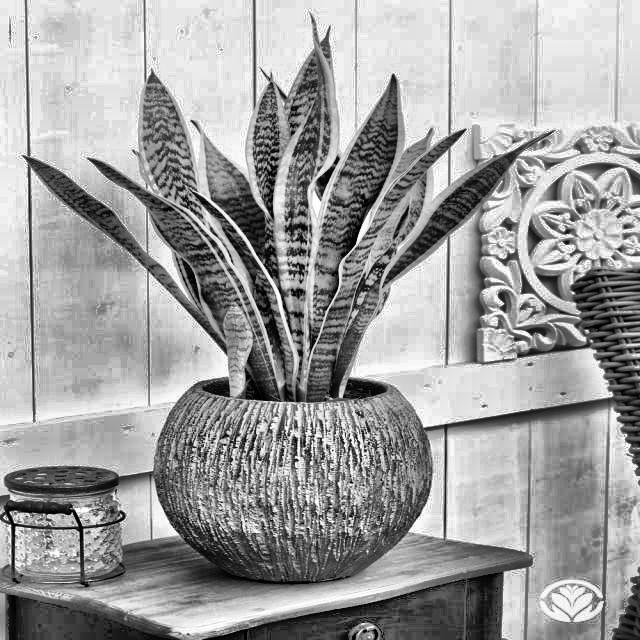plants: (22, 10, 560, 400)
